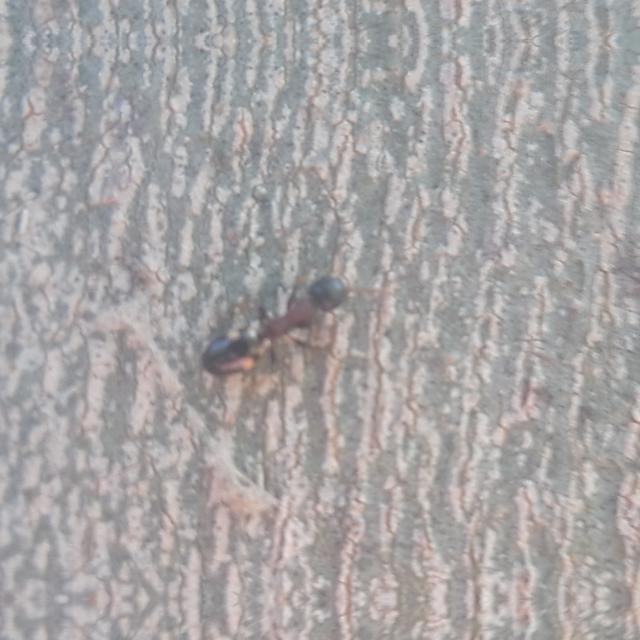Dolichoderus: (180, 247, 372, 386)
